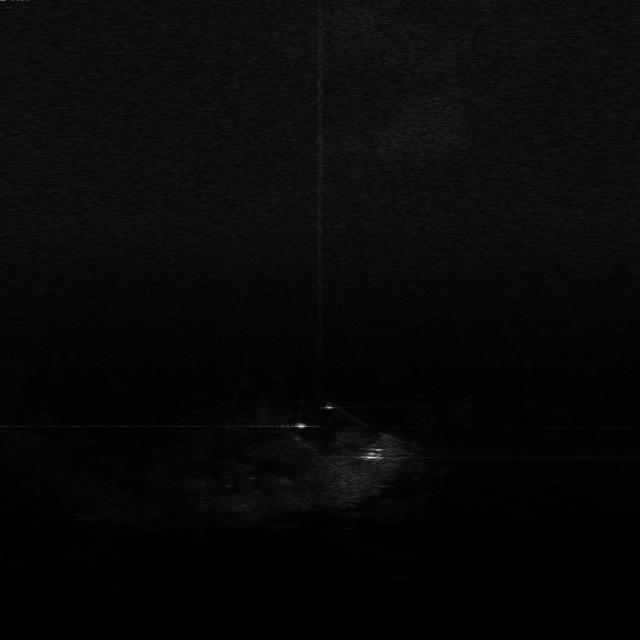rov: (358, 448, 386, 462)
